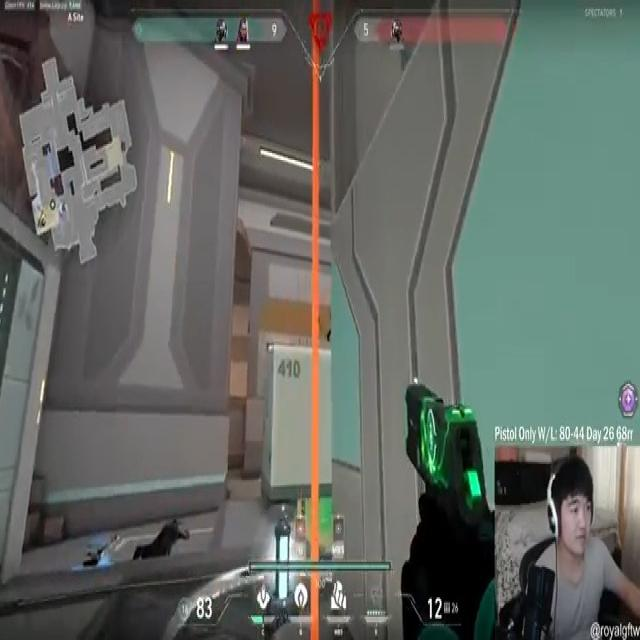spike-planted: (269, 517, 294, 623)
